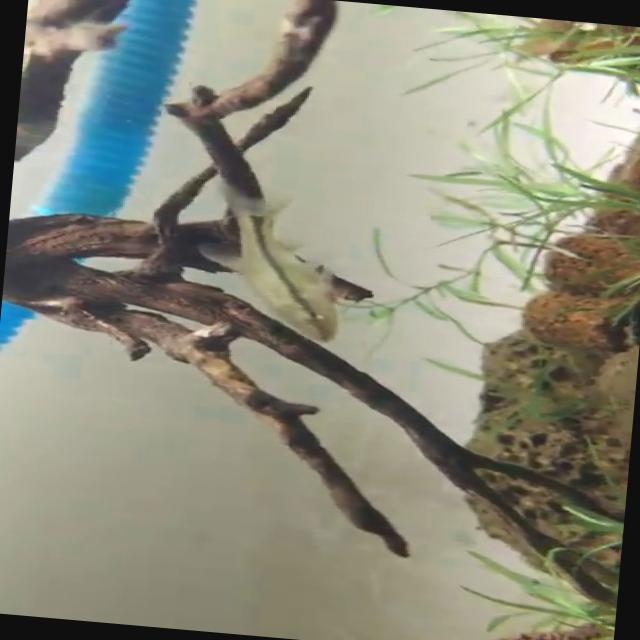Cakil Baligi: (192, 184, 349, 344)
